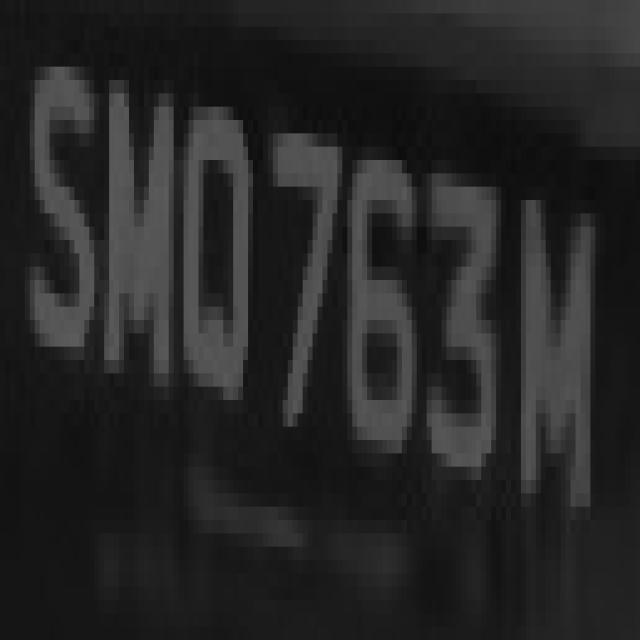3: (417, 134, 506, 534)
6: (342, 94, 422, 494)
7: (253, 67, 347, 493)
M: (501, 133, 605, 560), (89, 40, 184, 427)
Q: (169, 80, 263, 427)
S: (15, 14, 99, 414)
